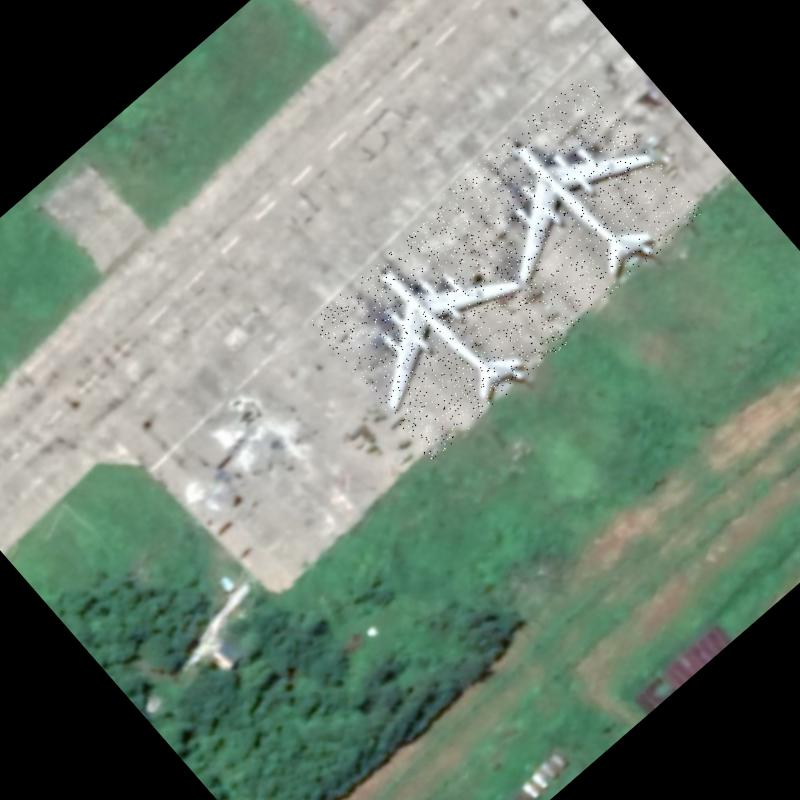A17: (309, 200, 571, 462), (441, 73, 704, 334)
